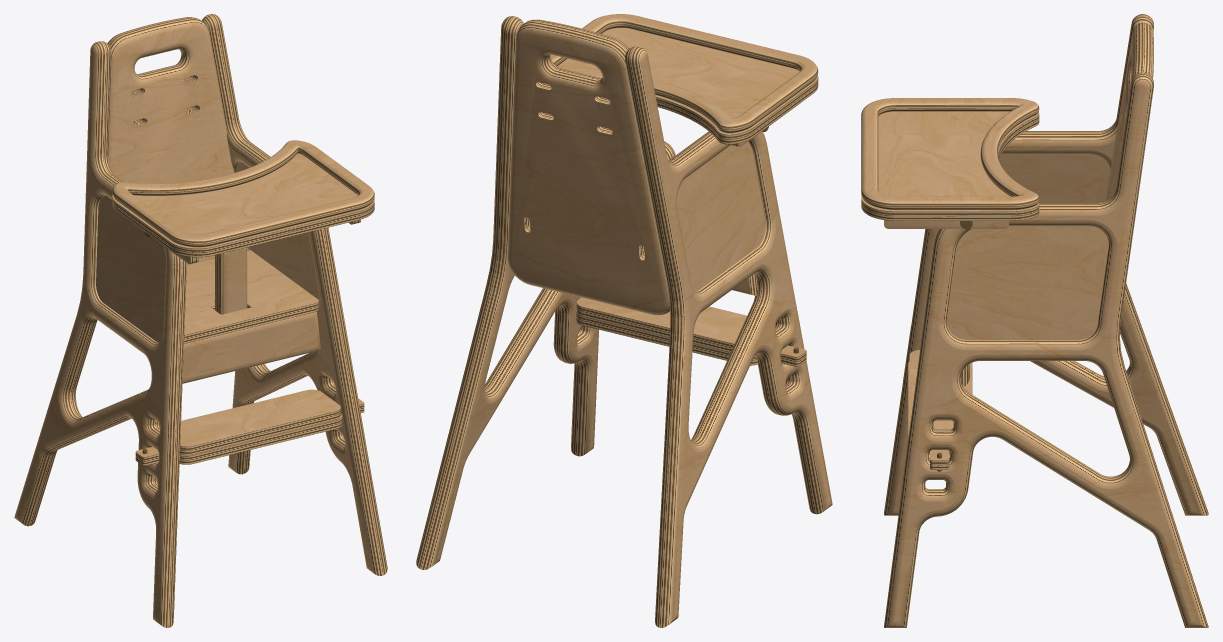
File: high-chair.glb
3 renders of one model, left to right at view 1: azimuth 30°, elevation 25°; view 2: azimuth 150°, elevation 25°; view 3: azimuth 270°, elevation 25°, orthographic. The views are drawn at different scales.
Visible parts, largest first — view 1: High Chair: side_frame_L, High Chair: back_panel, High Chair: side_frame_R, High Chair Tray: tray_base, High Chair Tray: tray_rim, High Chair: side_guard_L, High Chair: seat, High Chair: footrest_upper, High Chair: front_apron, High Chair: side_guard_R, High Chair: footrest_lower, High Chair: crotch_post; view 2: High Chair: back_panel, High Chair: side_frame_L, High Chair: side_frame_R, High Chair Tray: tray_base, High Chair: side_guard_L, High Chair Tray: tray_rim, High Chair: footrest_upper, High Chair: footrest_lower; view 3: High Chair: side_frame_R, High Chair: side_guard_R, High Chair: side_frame_L, High Chair Tray: tray_base, High Chair Tray: tray_rim, High Chair: side_guard_L, High Chair: back_panel, High Chair Tray: tray_runner_R, High Chair: footrest_upper, High Chair: footrest_lower.
Boxes of the visible parts, left/top/right/bottom form: High Chair: side_frame_L: left=14, top=41, right=186, bottom=627; High Chair: back_panel: left=107, top=17, right=248, bottom=265; High Chair: side_frame_R: left=202, top=14, right=387, bottom=575; High Chair Tray: tray_base: left=112, top=153, right=374, bottom=257; High Chair Tray: tray_rim: left=112, top=140, right=374, bottom=247; High Chair: side_guard_L: left=96, top=195, right=165, bottom=341; High Chair: seat: left=184, top=250, right=318, bottom=343; High Chair: footrest_upper: left=180, top=389, right=340, bottom=455; High Chair: front_apron: left=182, top=311, right=320, bottom=383; High Chair: side_guard_R: left=236, top=162, right=319, bottom=303; High Chair: footrest_lower: left=135, top=398, right=364, bottom=465; High Chair: crotch_post: left=215, top=247, right=247, bottom=314; High Chair: back_panel: left=508, top=19, right=669, bottom=315; High Chair: side_frame_L: left=625, top=46, right=832, bottom=627; High Chair: side_frame_R: left=416, top=16, right=598, bottom=569; High Chair Tray: tray_base: left=557, top=28, right=818, bottom=144; High Chair: side_guard_L: left=676, top=142, right=765, bottom=291; High Chair Tray: tray_rim: left=550, top=14, right=818, bottom=133; High Chair: footrest_upper: left=576, top=297, right=746, bottom=352; High Chair: footrest_lower: left=576, top=310, right=806, bottom=366; High Chair: side_frame_R: left=884, top=72, right=1208, bottom=627; High Chair: side_guard_R: left=947, top=226, right=1108, bottom=339; High Chair: side_frame_L: left=884, top=14, right=1208, bottom=515; High Chair Tray: tray_base: left=861, top=111, right=1039, bottom=220; High Chair Tray: tray_rim: left=861, top=98, right=1039, bottom=209; High Chair: side_guard_L: left=999, top=154, right=1110, bottom=202; High Chair: back_panel: left=1105, top=22, right=1153, bottom=200; High Chair Tray: tray_runner_R: left=884, top=220, right=1008, bottom=228; High Chair: footrest_upper: left=909, top=350, right=972, bottom=429; High Chair: footrest_lower: left=908, top=362, right=949, bottom=469.
Size of the model in its own units: 0.5046 by 1.03 by 0.6109.
3 materials, 2 textured.
